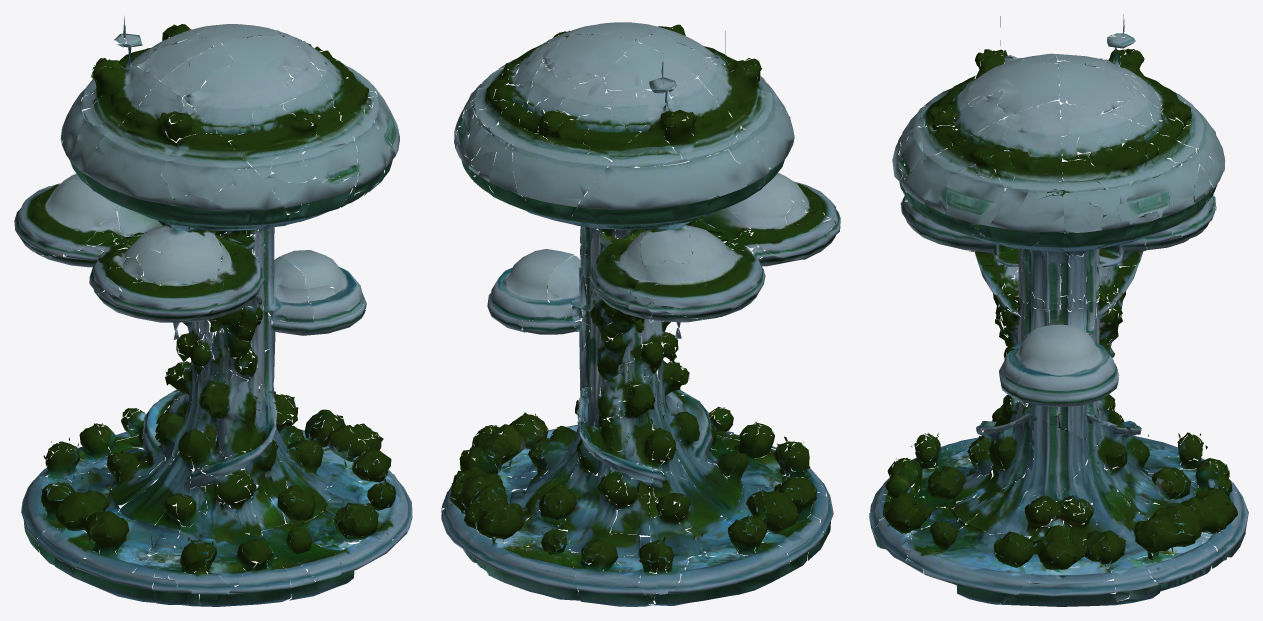
The model's file is futuristic_tower_prototype.glb.
3 renders of one model, left to right at view 1: azimuth 30°, elevation 25°; view 2: azimuth 150°, elevation 25°; view 3: azimuth 270°, elevation 25°, orthographic. The views are drawn at different scales.
Parts seen in each view (by area): view 1: tripo_node_6da1bb12-1ca9-4229-990c-e5e25ac33e31; view 2: tripo_node_6da1bb12-1ca9-4229-990c-e5e25ac33e31; view 3: tripo_node_6da1bb12-1ca9-4229-990c-e5e25ac33e31.
Part boxes in pixels (bbox=[...]): tripo_node_6da1bb12-1ca9-4229-990c-e5e25ac33e31: bbox=[14, 16, 412, 606]; tripo_node_6da1bb12-1ca9-4229-990c-e5e25ac33e31: bbox=[441, 22, 840, 606]; tripo_node_6da1bb12-1ca9-4229-990c-e5e25ac33e31: bbox=[869, 14, 1248, 606].
Bounding box in the file's own units: 0.7 × 1 × 0.7005.
Materials: 1 (1 with a texture image).
